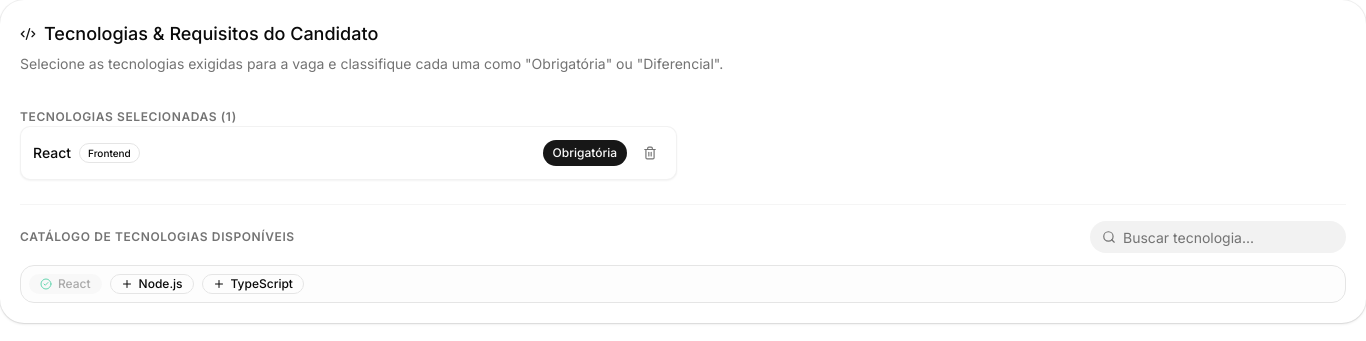
JobTechnologiesSection Component › removes technology when delete button is clicked
Check: the button "Obrigatória" is shown, box [542,139,628,167]
What coordinates should you click on to do the following:
click the 2nd button
I would click on:
 (650, 153)
Its box is [636,139,664,167].
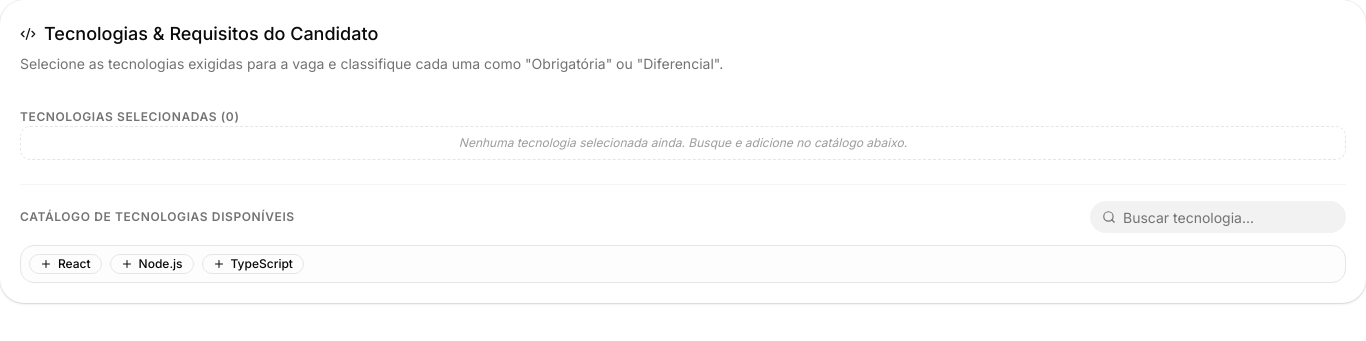
Check: the text "Nenhuma tecnologia selecionada ainda" is shown, box [459,135,907,150]
